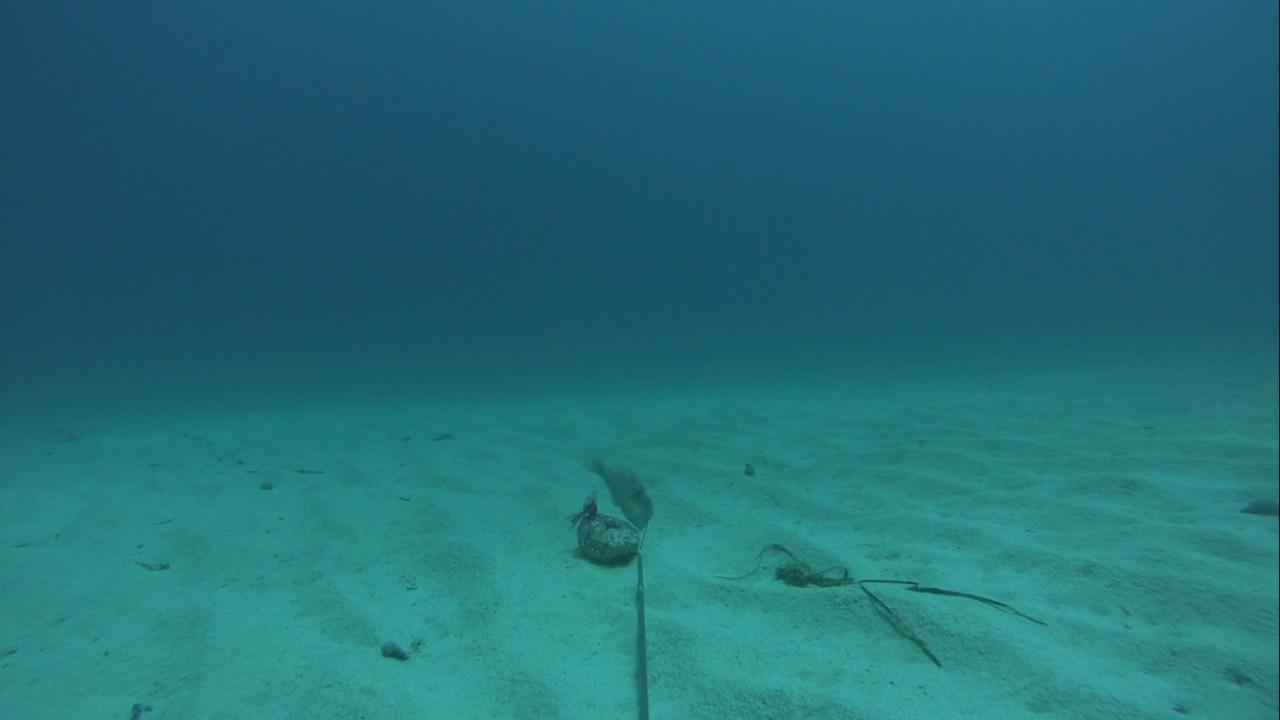raor: (575, 442, 656, 534)
